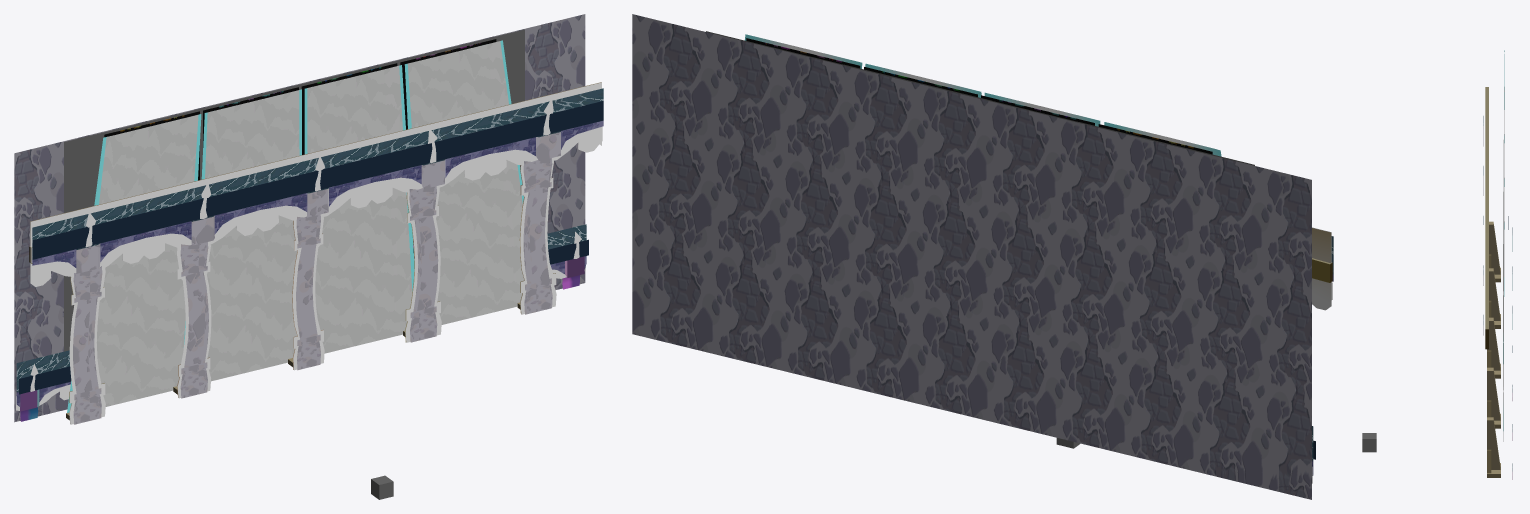
File: stg_04_2.dae
The picture shows the model from 3 angles, left to right: view 1: azimuth 30°, elevation 25°; view 2: azimuth 150°, elevation 25°; view 3: azimuth 270°, elevation 25°; orthographic projection. The views are drawn at different scales.
Parts seen in each view (by area): view 1: polySurface1301_q00137, polySurface1299_q00135, polySurface1303_q00139, polySurface1295_q00131, polySurface110_q00146, polySurface1319_q00079, polySurface1325_q00038_part2, polySurface1322_q00030, polySurface1325_q00038_part1, polySurface1333, polySurface1329, polySurface1270_q00148 (+21 smaller); view 2: polySurface110_q00146, polySurface1328_q00024; view 3: polySurface1250_q00020, pCube24_q00005, pCube24_q00011, pCube24_q00008, pCube24_q00014, pCube24_q00002, pCube25, polySurface1303_q00139, polySurface1295_q00131.
Part boxes in pixels (x1,y1,x2,y2): polySurface1301_q00137: (307,65,412,353); polySurface1299_q00135: (205,90,299,381); polySurface1303_q00139: (407,41,524,324); polySurface1295_q00131: (96,114,198,406); polySurface110_q00146: (14,14,585,422); polySurface1319_q00079: (32,101,603,259); polySurface1325_q00038_part2: (32,88,603,259); polySurface1322_q00030: (30,82,601,286); polySurface1325_q00038_part1: (32,120,603,267); polySurface1333: (523,158,552,314); polySurface1329: (73,266,102,424); polySurface1270_q00148: (64,106,211,351); polySurface110_q00146: (632,14,1311,499); polySurface1328_q00024: (1312,228,1331,310); polySurface1250_q00020: (1485,87,1488,349); pCube24_q00005: (1487,367,1500,420); pCube24_q00011: (1487,417,1500,469); pCube24_q00008: (1487,317,1500,370); pCube24_q00014: (1489,221,1500,274); pCube24_q00002: (1489,268,1500,320); pCube25: (1362,433,1376,452); polySurface1303_q00139: (1503,221,1504,441); polySurface1295_q00131: (1503,51,1504,290).
Size of the model in its own units: 40 by 23.5 by 10.5.
